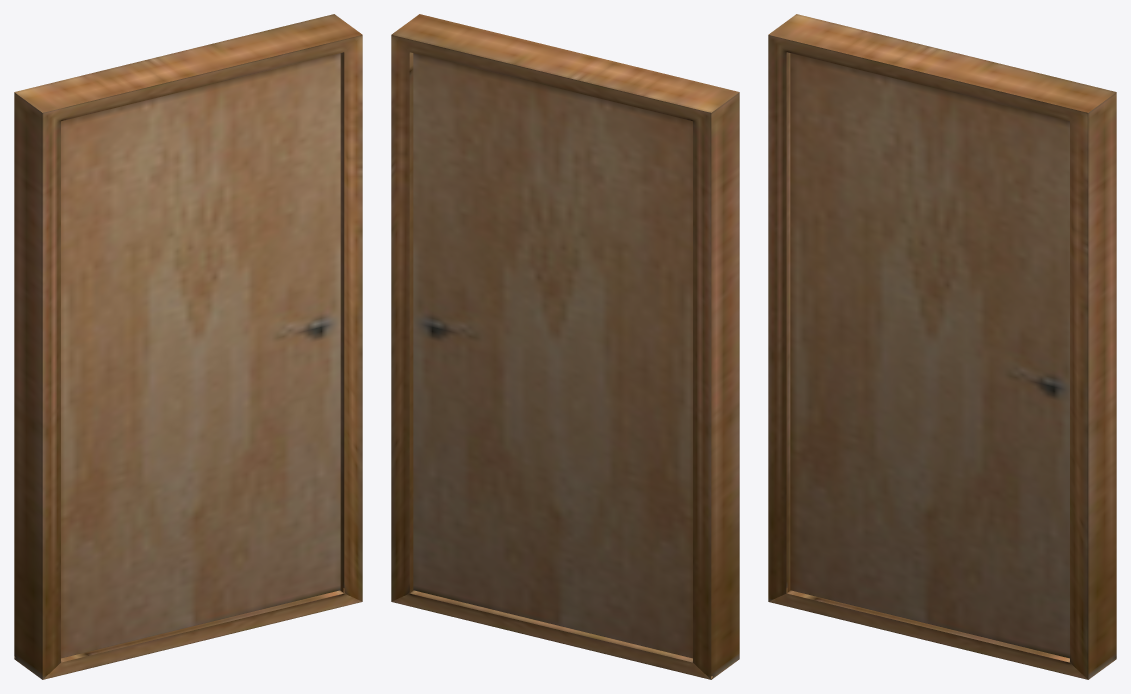
Rendered from Door.fbx.
The picture shows the model from 3 angles, left to right: view 1: azimuth 30°, elevation 25°; view 2: azimuth 150°, elevation 25°; view 3: azimuth 330°, elevation 25°; orthographic projection.
Parts seen in each view (by area): view 1: Door, Doorframe; view 2: Door, Doorframe; view 3: Door, Doorframe.
Part boxes in pixels (left/top/right/bottom): Door: left=61, top=53, right=340, bottom=658; Doorframe: left=14, top=14, right=362, bottom=679; Door: left=413, top=53, right=692, bottom=658; Doorframe: left=391, top=14, right=739, bottom=679; Door: left=790, top=53, right=1069, bottom=658; Doorframe: left=768, top=14, right=1116, bottom=679.
Bounding box in the file's own units: 81.25 × 138 × 12.5.
1 material, 1 textured.
